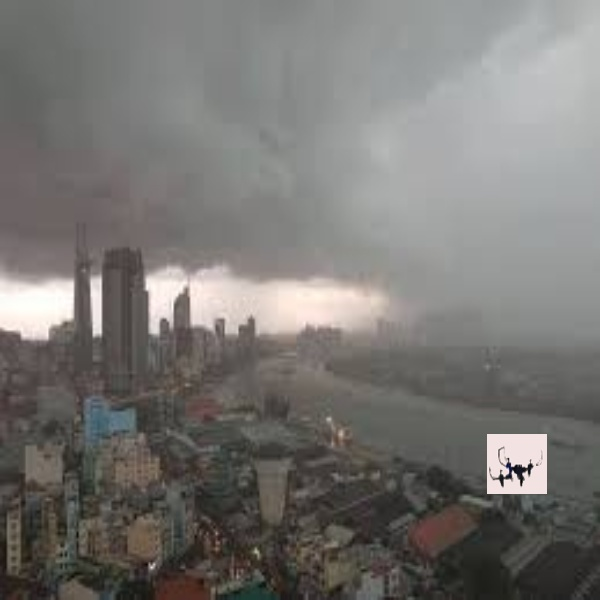drone: (490, 433, 547, 492)
